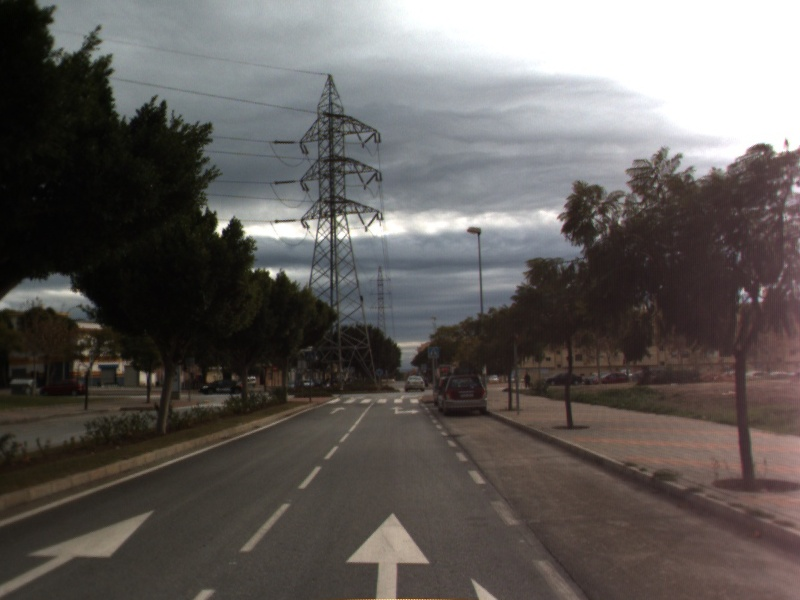STRAIGHT: (1, 508, 157, 597), (344, 510, 432, 600), (327, 405, 348, 416)
STRAIGHT_RIGHT: (388, 404, 422, 416)
